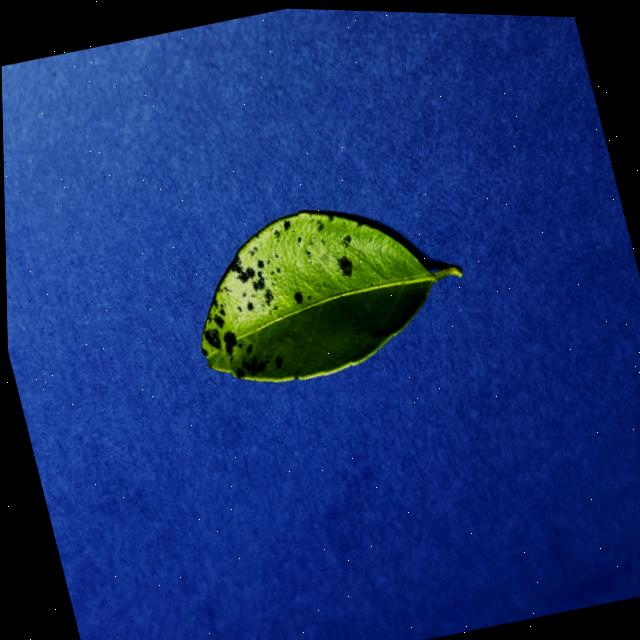sooty_mold: (201, 212, 460, 381)
